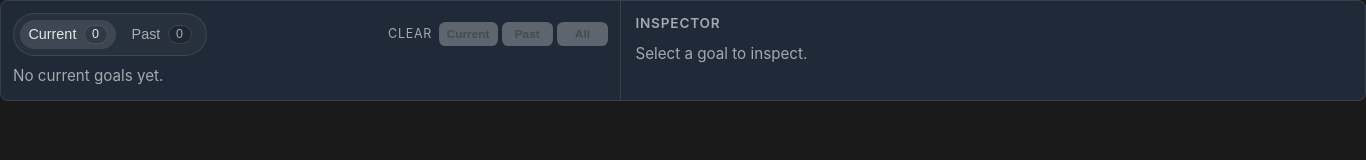
it: GoalsPanel › shows empty copy for current and past when there are no goals
Expected: the tab with test id "goals-tab-filter-current" is shown, [20,20,116,49]
Expected: the text with test id "goals-tab-empty" reads "No current goals yet.", [13,66,164,85]
Click the tab with test id "goals-tab-filter-past" at coordinates (162, 34), box [123,20,200,49]
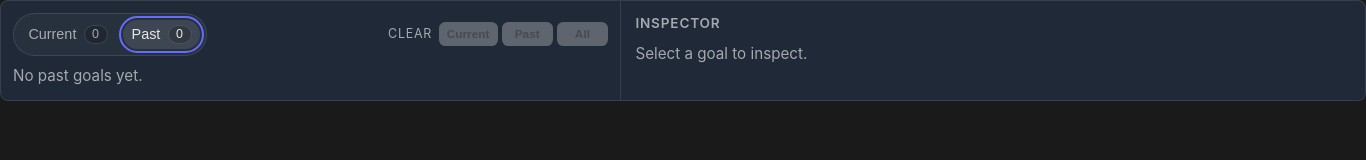
Expected: the text with test id "goals-tab-empty" reads "No past goals yet.", [13,66,143,85]
Click the tab with test id "goals-tab-filter-current" at coordinates (68, 34), box [20,20,116,49]
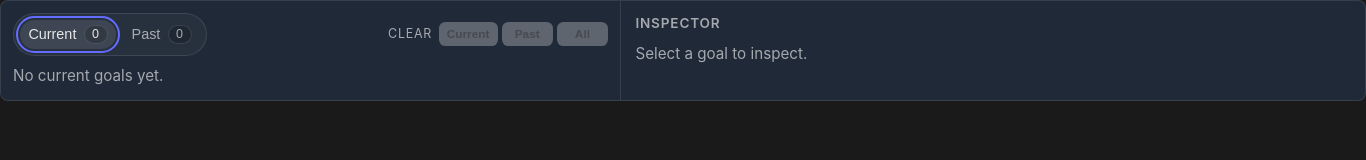
Expected: the text with test id "goals-tab-empty" reads "No current goals yet.", [13,66,164,85]
